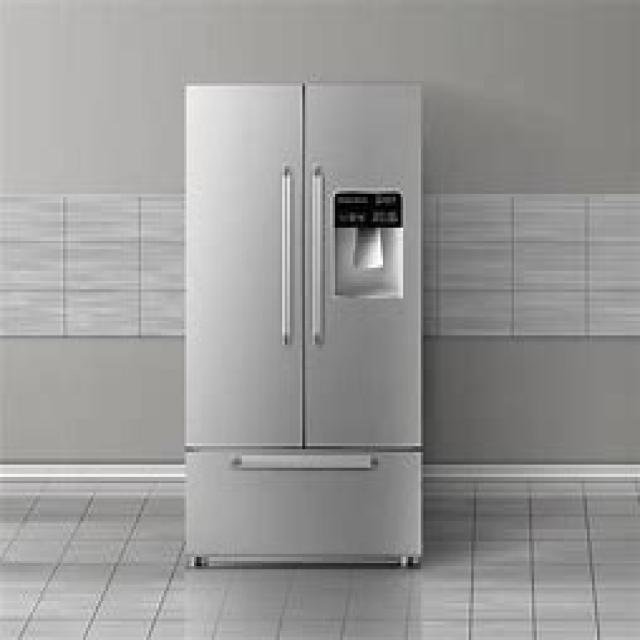fridge: (182, 77, 424, 566)
